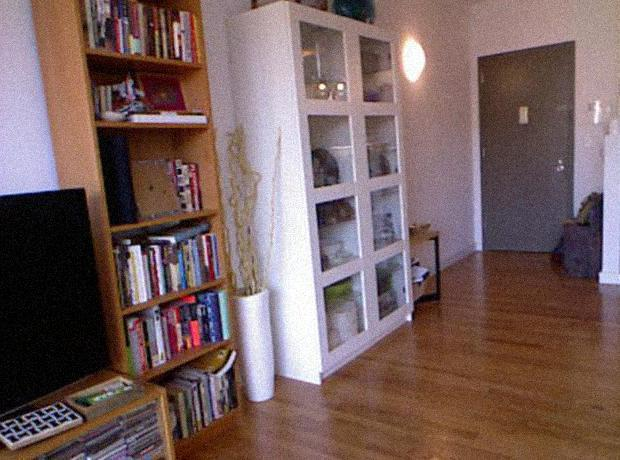Armario: (231, 13, 421, 366)
Matera: (211, 120, 284, 412)
